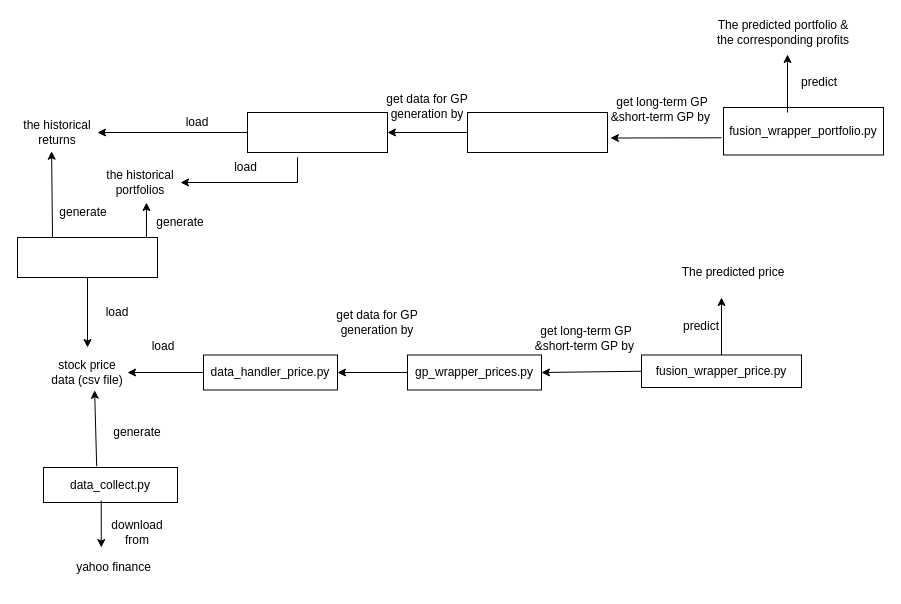
The diagram is 901 pixels wide and 604 high, and some of its shapes have lost their labels. Each missing label, with the box of its shape:
data_handler_portfolio.py: (246, 112, 388, 152)
gp_wrapper_portfolio.py: (466, 112, 608, 152)
portfolios_generation.py: (16, 236, 158, 278)
